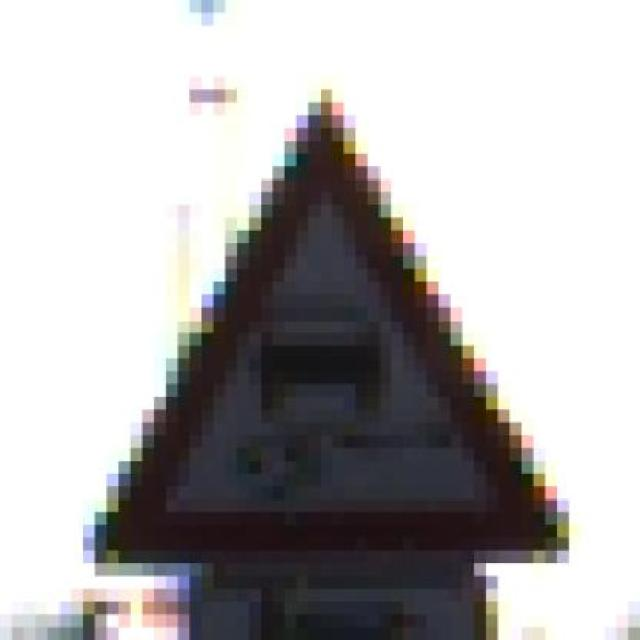Slippery Road Ahead: (70, 64, 582, 576)
